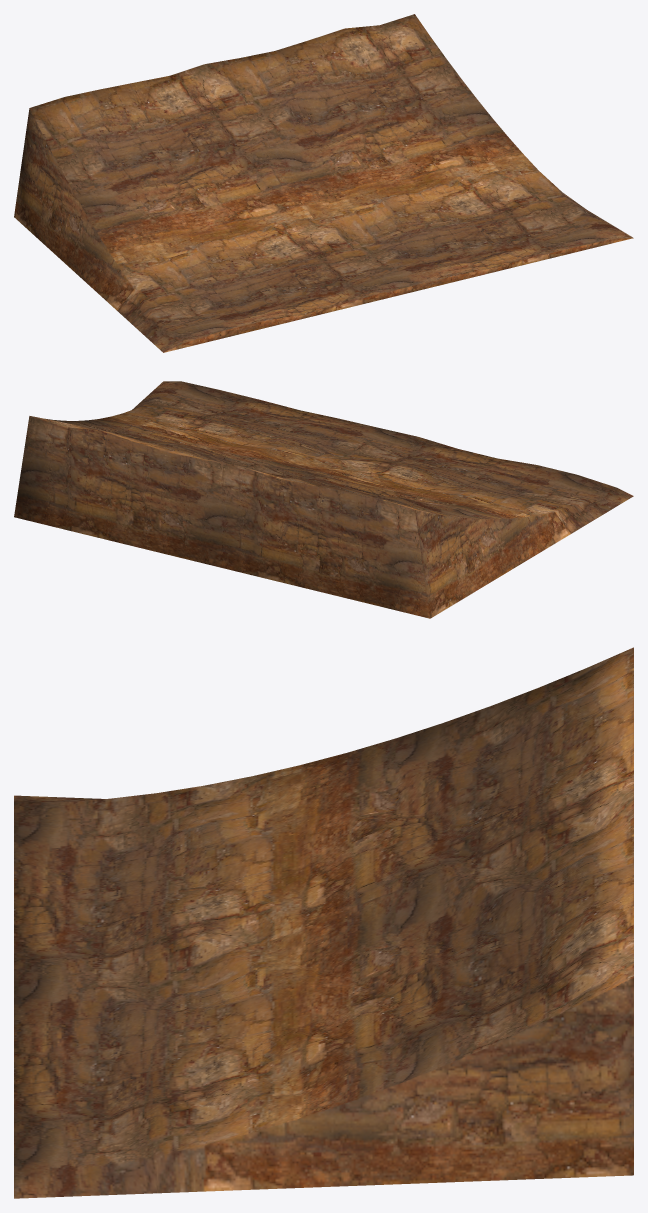
Rendered from ramp_rock.glb.
The picture shows the model from 3 angles, top to bottom: view 1: azimuth 30°, elevation 25°; view 2: azimuth 150°, elevation 25°; view 3: azimuth 270°, elevation 25°; orthographic projection. The views are drawn at different scales.
Visible parts, largest first — view 1: ramp_rock; view 2: ramp_rock; view 3: ramp_rock.
Part boxes in pixels (box(x1,y1,x2,y2)): ramp_rock: box(14, 14, 633, 352); ramp_rock: box(14, 381, 633, 618); ramp_rock: box(14, 647, 633, 1198).
Size of the model in its own units: 5.62 by 1.23 by 3.65.
Materials: 1 (1 with a texture image).
